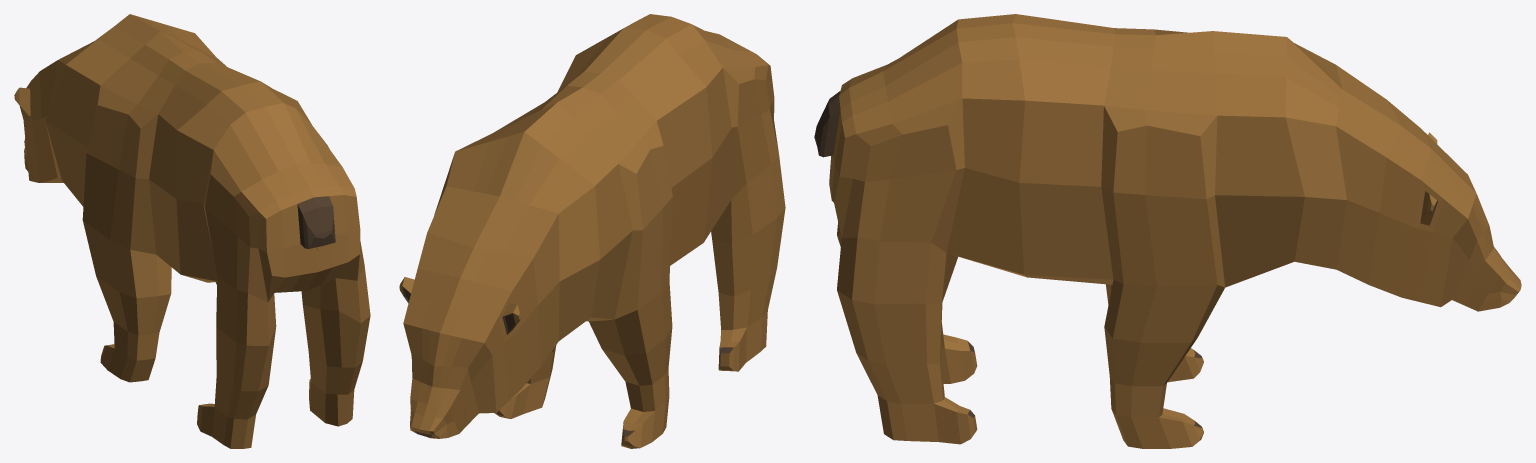
File: Oso con coloor.fbx
3 views of the same model, side by side, from view 1: azimuth 30°, elevation 25°; view 2: azimuth 150°, elevation 25°; view 3: azimuth 270°, elevation 25° (orthographic). The views are drawn at different scales.
Parts seen in each view (by area): view 1: Cube; view 2: Cube; view 3: Cube.
Boxes of the visible parts, left/top/right/bottom form: Cube: left=14, top=14, right=370, bottom=448; Cube: left=399, top=14, right=785, bottom=448; Cube: left=814, top=14, right=1521, bottom=448.
Size of the model in its own units: 205 by 405 by 669.
